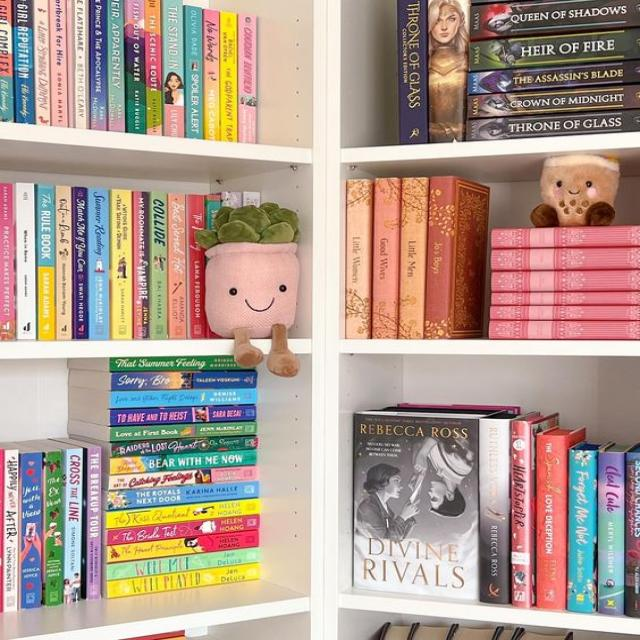book: (468, 29, 640, 72), (469, 0, 640, 40), (466, 84, 640, 119), (467, 61, 640, 95), (429, 0, 470, 142), (478, 419, 509, 603), (107, 564, 259, 598), (465, 111, 640, 140), (106, 547, 259, 580), (536, 435, 565, 609), (106, 531, 259, 563), (425, 176, 455, 339), (400, 178, 429, 338), (106, 515, 259, 545), (568, 449, 596, 612), (107, 482, 257, 511), (372, 178, 399, 339), (398, 0, 428, 144), (105, 501, 259, 529), (599, 452, 624, 613), (346, 179, 370, 339), (19, 452, 42, 609), (14, 182, 36, 339), (108, 467, 257, 490), (512, 420, 530, 609), (88, 188, 110, 340), (492, 227, 640, 249), (110, 453, 257, 475), (110, 422, 258, 442), (492, 250, 640, 270), (111, 437, 257, 457), (110, 407, 256, 427), (112, 190, 131, 339), (110, 390, 257, 409), (493, 272, 640, 291), (65, 449, 83, 604), (164, 0, 184, 138), (167, 194, 186, 338), (187, 194, 206, 338), (13, 0, 35, 124), (38, 184, 55, 340), (55, 185, 72, 340), (489, 323, 640, 340), (126, 0, 145, 134), (133, 191, 150, 340), (111, 374, 257, 391), (45, 451, 61, 606), (238, 13, 257, 143), (4, 448, 19, 612), (625, 454, 640, 617), (86, 448, 102, 600), (49, 0, 68, 127), (151, 191, 167, 339), (0, 184, 15, 341), (220, 11, 238, 141), (145, 0, 162, 135), (73, 187, 88, 339), (108, 0, 124, 133), (186, 6, 202, 139), (91, 0, 107, 131), (491, 306, 640, 320), (73, 0, 89, 130), (203, 10, 219, 140), (110, 356, 237, 371), (35, 0, 50, 125), (492, 292, 640, 304), (0, 0, 14, 121), (66, 0, 73, 128)
